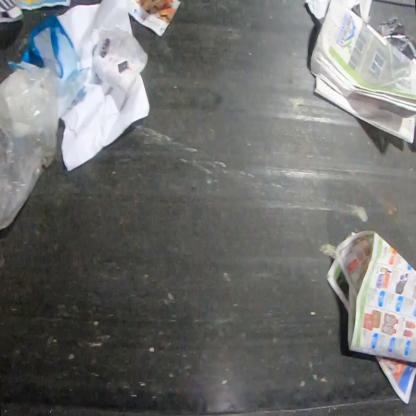soft_plastic: (0, 60, 59, 230), (20, 12, 89, 120)
